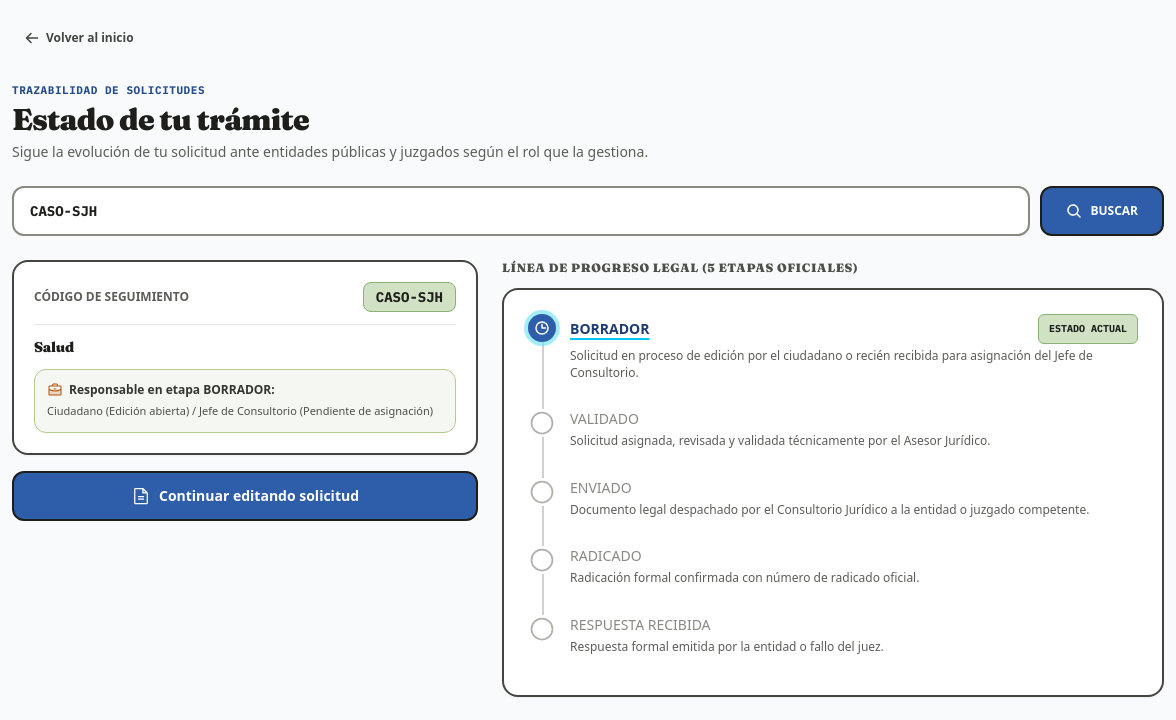
CaseStatus Feature & Acceptance Criteria (R5) › TC-T1-F15-05: allows searching for a new code via search bar
Expected: the text "CASO-SJH" is shown, [363,282,456,312]
Replace the text in the field with placeholder "Código (Ej: CASO-SJH)" with "CASO-NEW" at point(521, 211), box [12,186,1030,236]
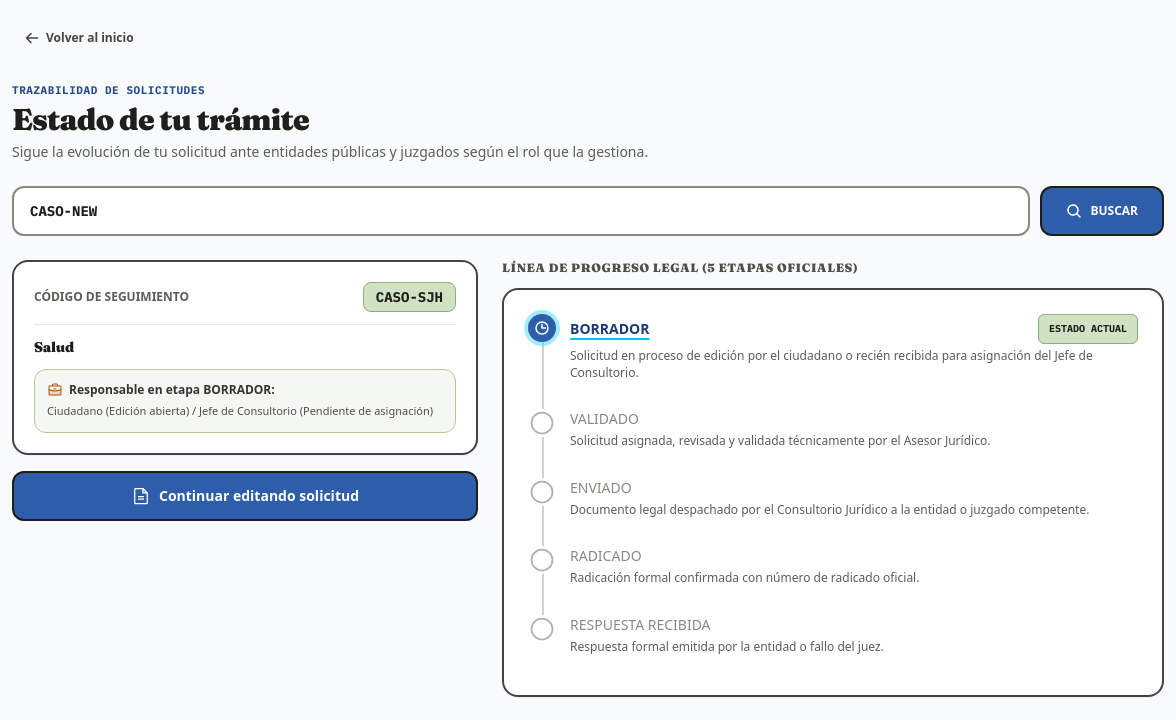
Click the button "Buscar" at point(1102, 211), box [1040,186,1164,236]
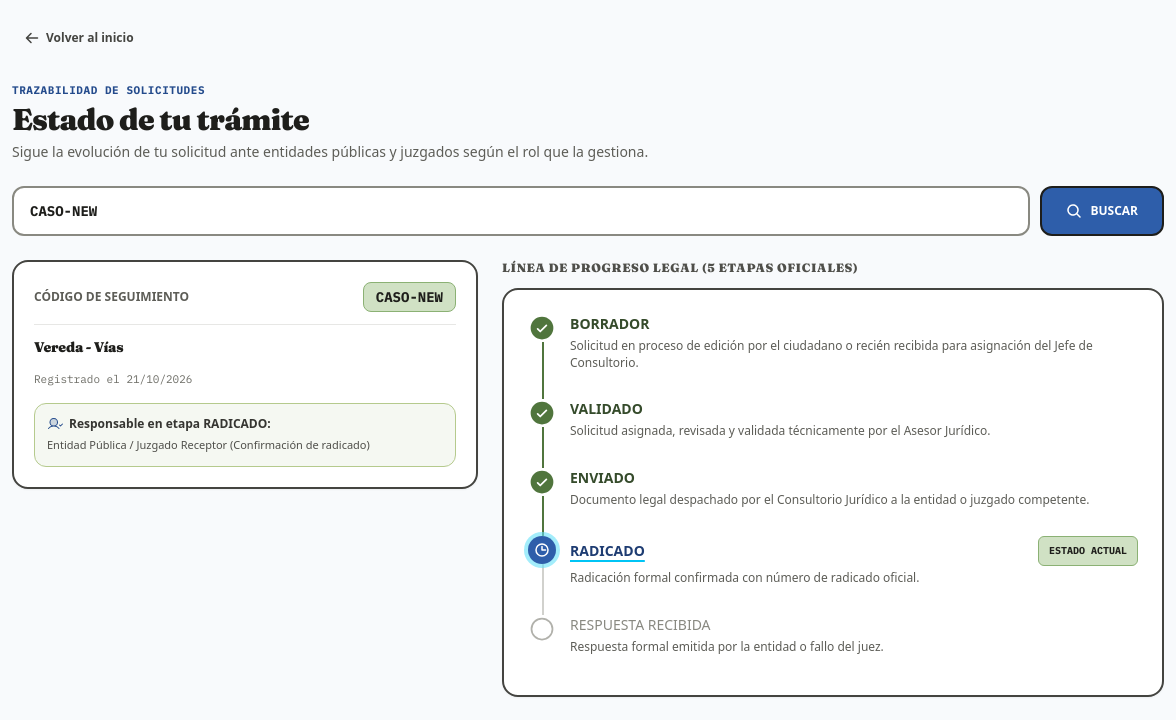
Result: the text "CASO-NEW" is shown at [363,282,456,312]
Result: the text "Vereda - Vías" is shown at [34,338,123,356]
